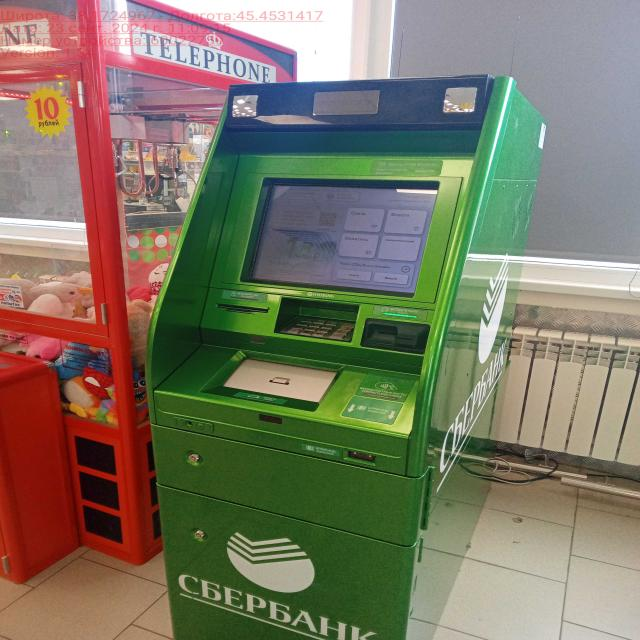bank: (148, 77, 549, 640)
